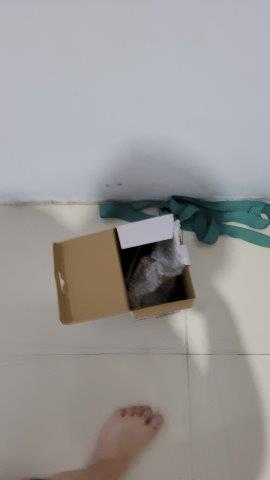kardus: (54, 216, 197, 326)
